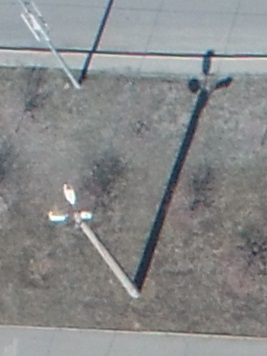opora: (44, 180, 166, 302)
